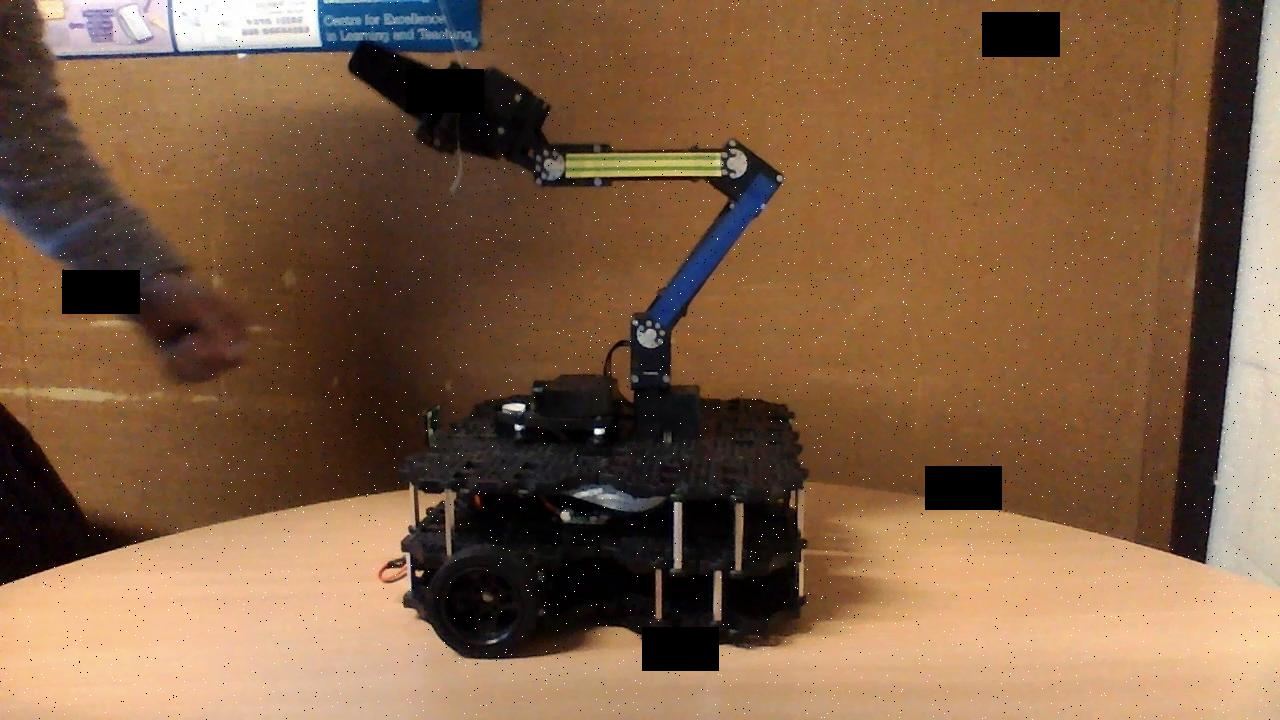Arm: (630, 167, 788, 351)
Hand: (347, 38, 571, 190)
Wrist: (533, 139, 749, 190)
base: (376, 370, 813, 665)
